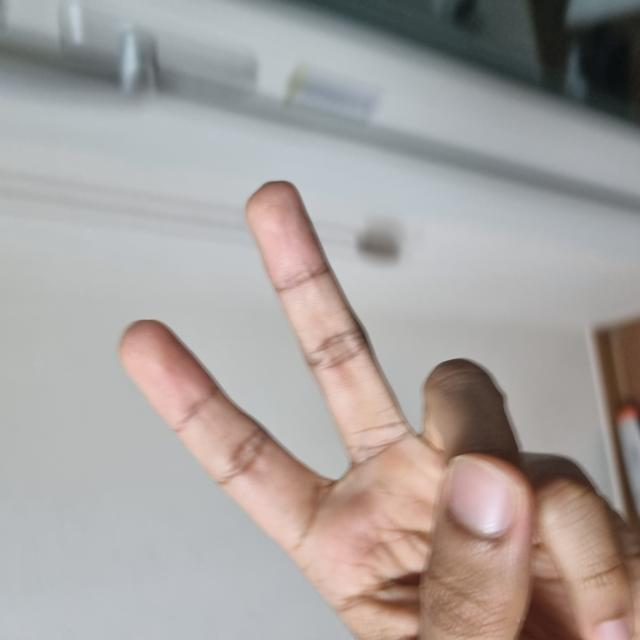Scissors: (0, 117, 454, 639)
